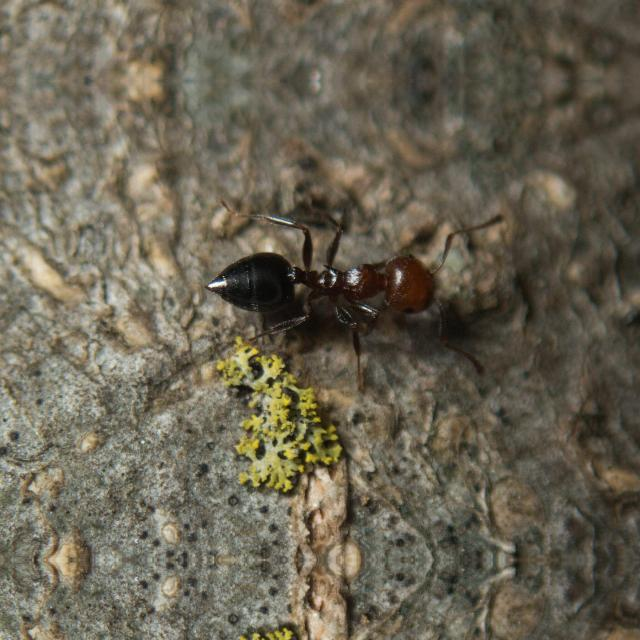Crematogaster: (213, 215, 454, 345)
